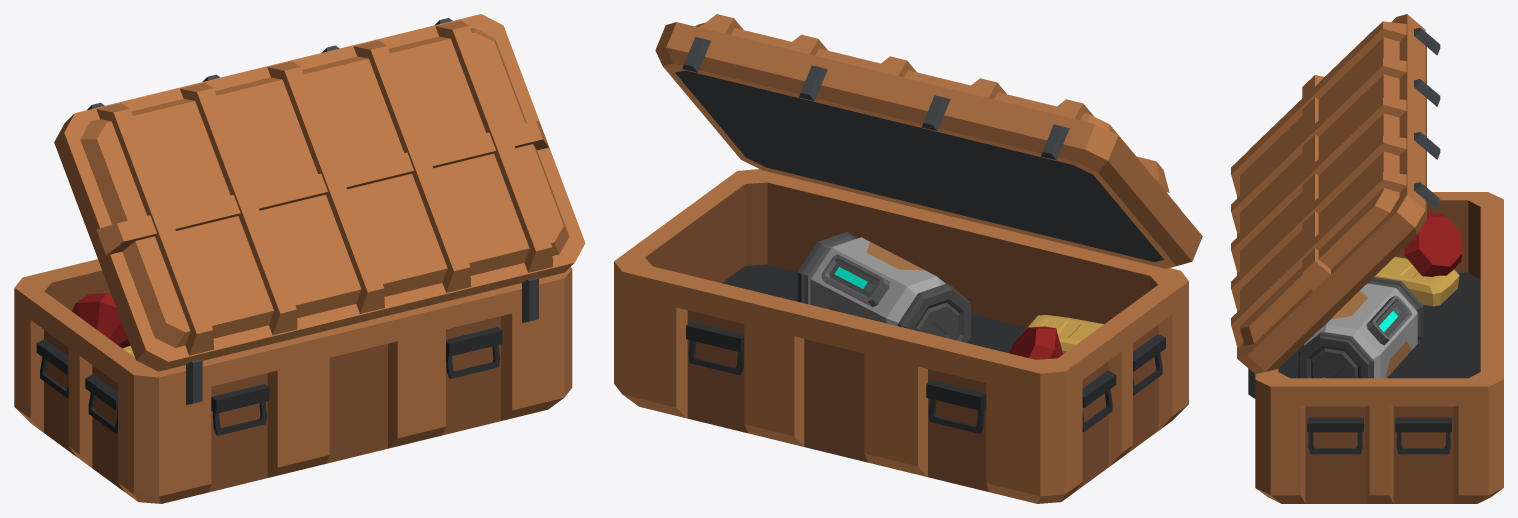
The model's file is MetaChest.fbx.
3 renders of one model, left to right at view 1: azimuth 30°, elevation 25°; view 2: azimuth 150°, elevation 25°; view 3: azimuth 270°, elevation 25°, orthographic. The views are drawn at different scales.
Parts seen in each view (by area): view 1: SM_Prop_Crate_Plastic_Lid_01, MetaChest, SM_Item_Gem_02; view 2: MetaChest, SM_Prop_Crate_Plastic_Lid_01, SM_Prop_Cylinder_02, SM_Item_Gem_02, SM_Prop_Gold_Ingot_01 (43); view 3: SM_Prop_Crate_Plastic_Lid_01, MetaChest, SM_Prop_Cylinder_02, SM_Item_Gem_02, SM_Prop_Gold_Ingot_01 (42).
Part boxes in pixels (left/top/right/bottom): SM_Prop_Crate_Plastic_Lid_01: left=54, top=14, right=585, bottom=371; MetaChest: left=14, top=259, right=572, bottom=503; SM_Item_Gem_02: left=72, top=293, right=130, bottom=348; MetaChest: left=614, top=169, right=1188, bottom=503; SM_Prop_Crate_Plastic_Lid_01: left=655, top=14, right=1202, bottom=268; SM_Prop_Cylinder_02: left=797, top=232, right=970, bottom=342; SM_Item_Gem_02: left=1009, top=326, right=1062, bottom=359; SM_Prop_Gold_Ingot_01 (43): left=1015, top=315, right=1103, bottom=353; SM_Prop_Crate_Plastic_Lid_01: left=1231, top=14, right=1440, bottom=374; MetaChest: left=1248, top=192, right=1503, bottom=503; SM_Prop_Cylinder_02: left=1298, top=277, right=1423, bottom=378; SM_Item_Gem_02: left=1404, top=212, right=1461, bottom=276; SM_Prop_Gold_Ingot_01 (42): left=1374, top=256, right=1459, bottom=306.
Size of the model in its own units: 1.46 by 1.07 by 0.852.
Materials: 4 (4 with a texture image).
